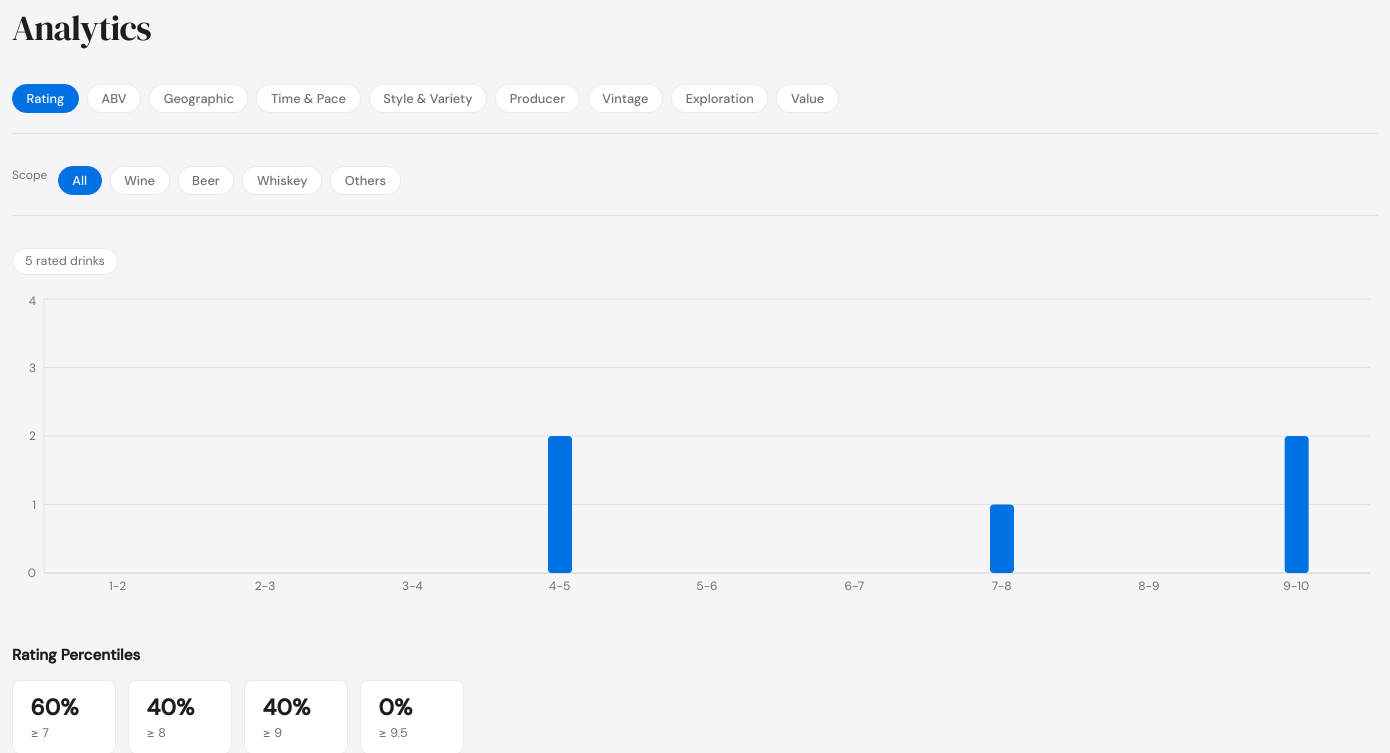
clicking the Producer tab renders ProducerSection
Check: the text "5 rated drinks" is shown, box [12,248,118,276]
Click the button "Producer": (537, 99) [495,84,580,113]
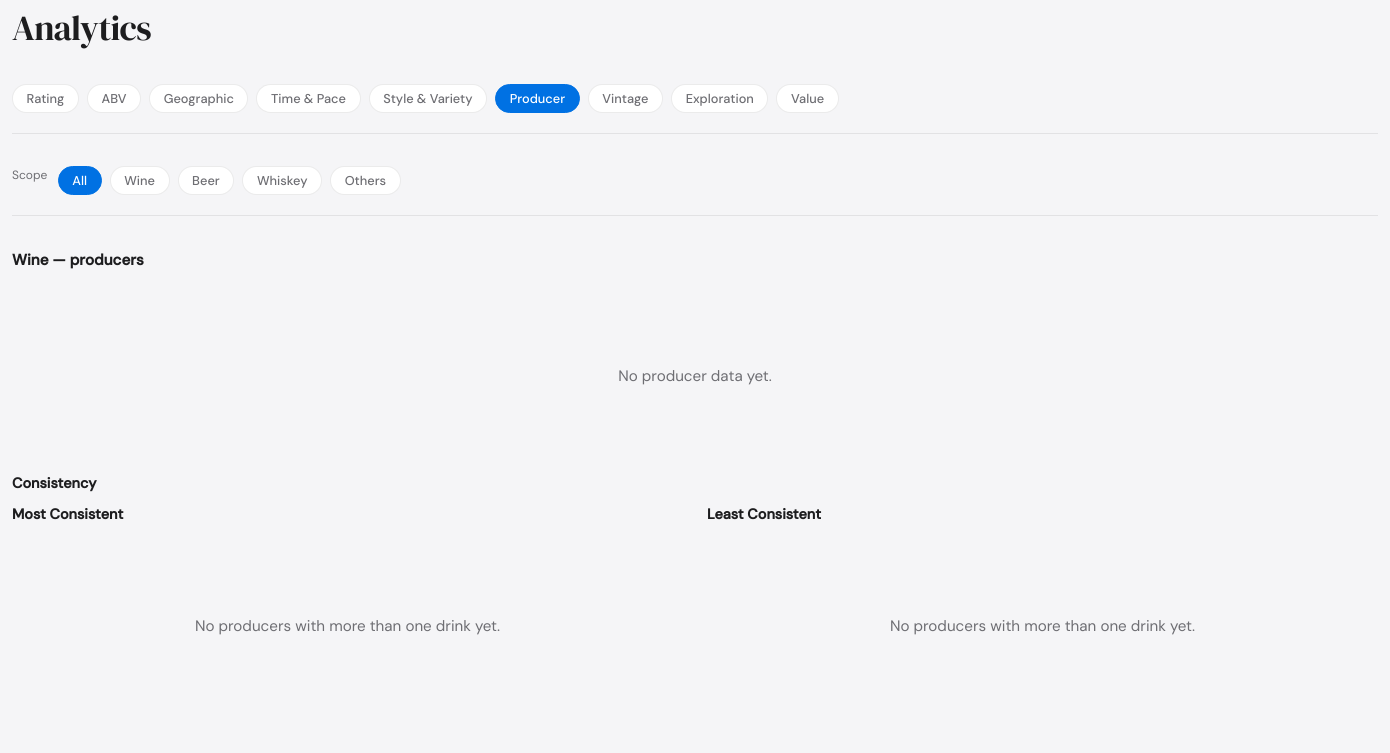
Check: the heading "Wine — producers" is shown, box [12,250,144,270]
